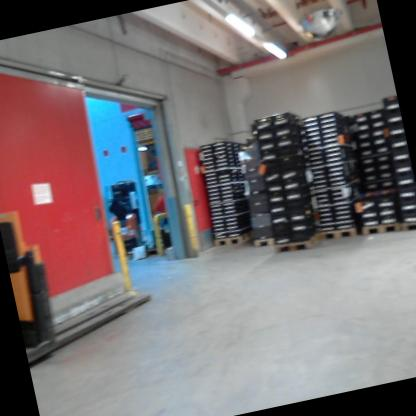pallet: (269, 226, 323, 258), (355, 214, 406, 242), (207, 224, 255, 253), (318, 222, 359, 244), (249, 230, 275, 251), (400, 217, 416, 235)
pallet_truck: (0, 170, 160, 369), (100, 172, 150, 261)
